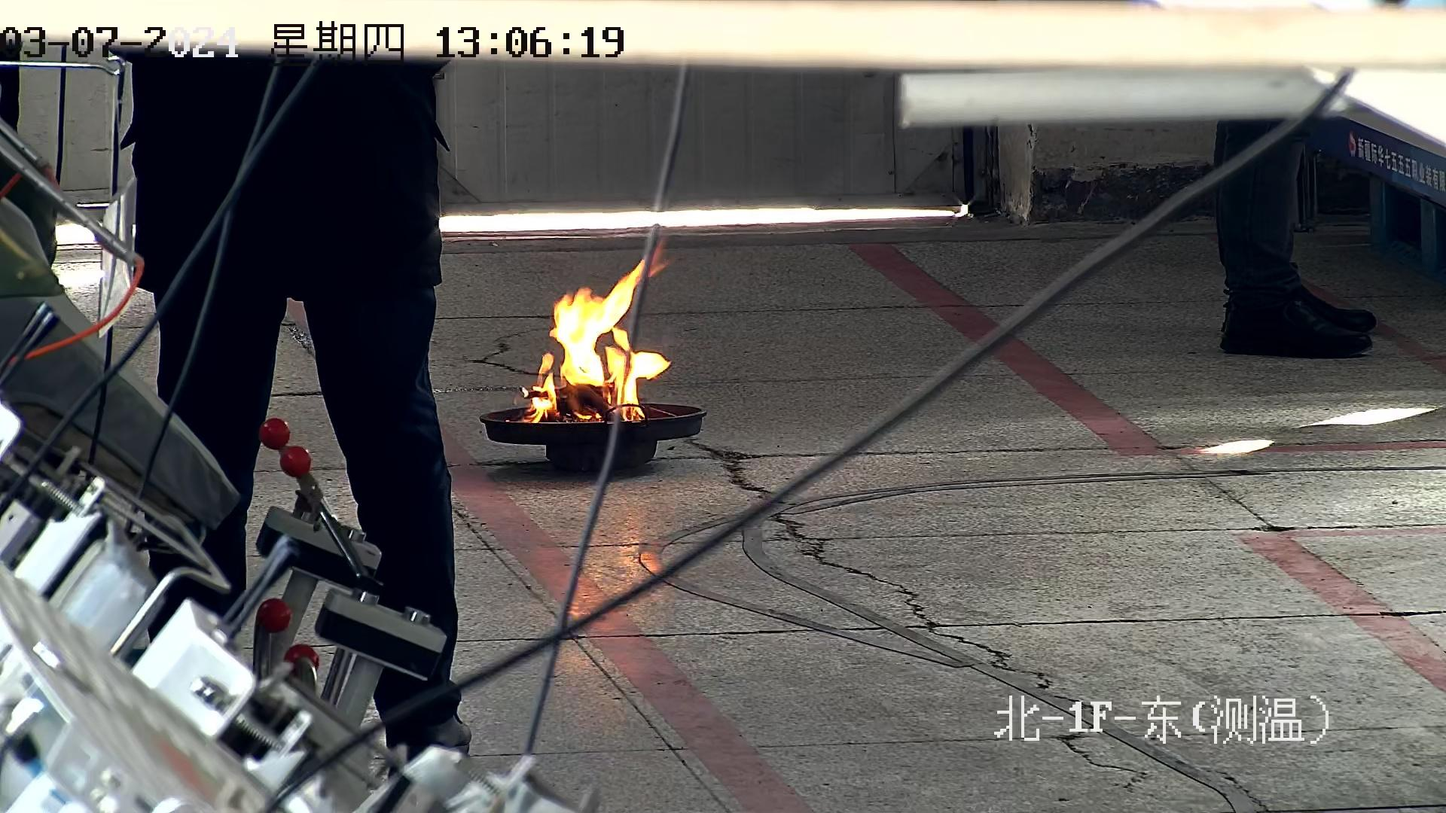fire: (522, 260, 670, 421)
